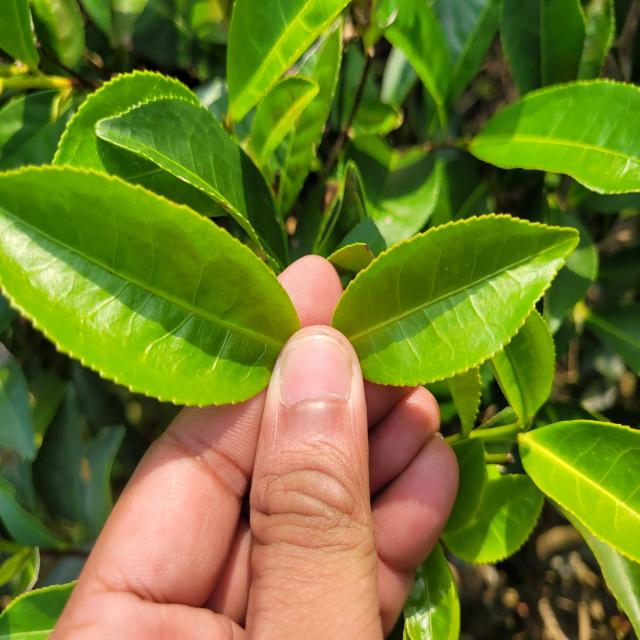Category B 2-4 days: (314, 172, 592, 414)
